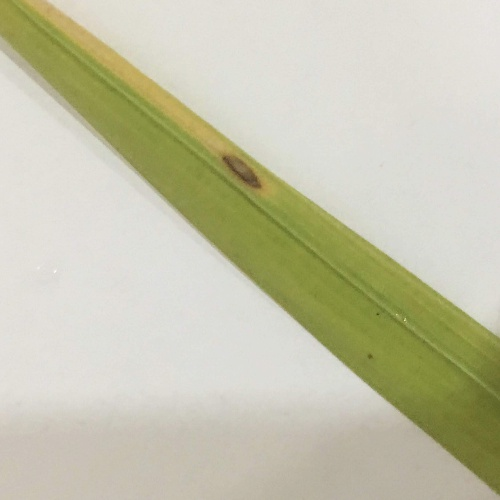Busuk Leher: (218, 149, 271, 197)
